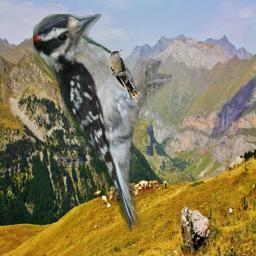Cuckoo: (109, 50, 138, 99)
Woodpecker: (33, 14, 172, 232)
